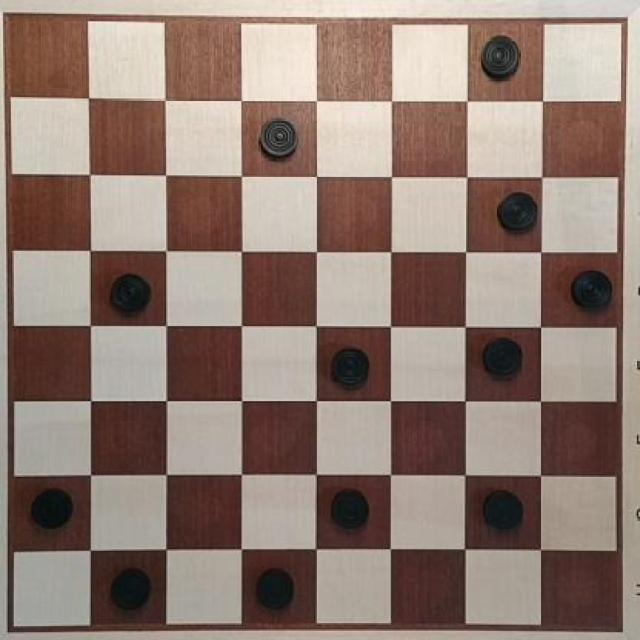BOARD: (4, 15, 624, 632)
black: (21, 472, 86, 544), (554, 254, 617, 326), (97, 254, 157, 323), (324, 477, 380, 543), (482, 182, 543, 241), (245, 554, 303, 616), (317, 341, 378, 396), (468, 32, 527, 87), (476, 482, 529, 543), (100, 562, 161, 614), (477, 330, 530, 388), (255, 110, 306, 164)
